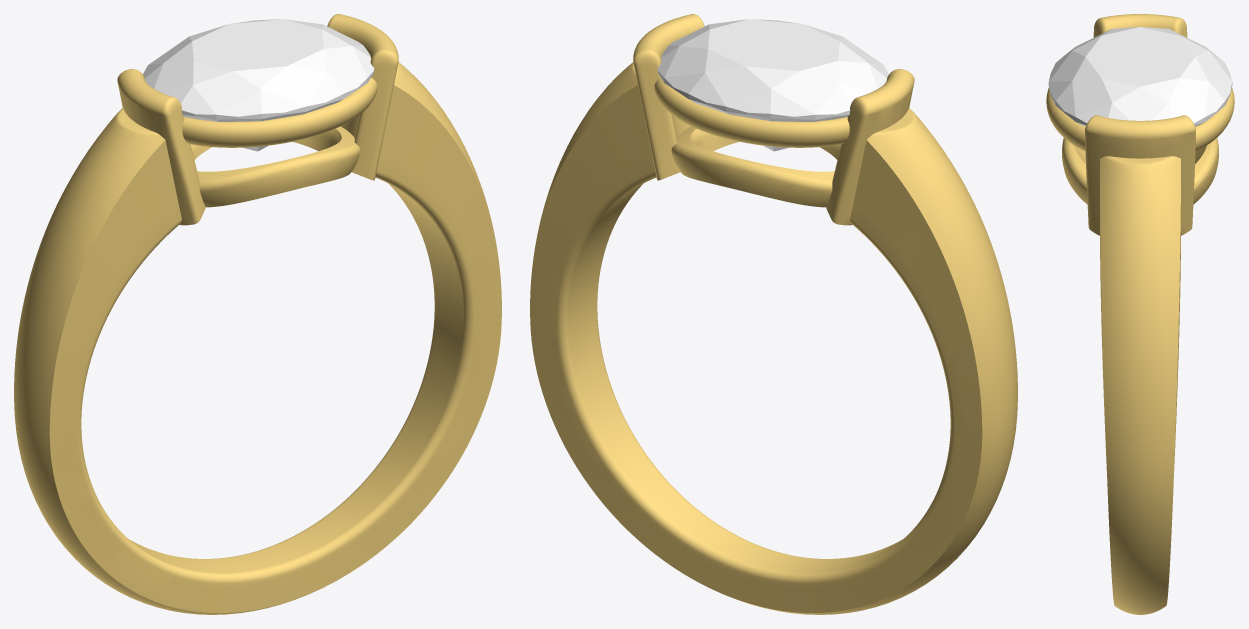
The model's file is Emma&NateYG_webgi.glb.
3 views of the same model, side by side, from view 1: azimuth 30°, elevation 25°; view 2: azimuth 150°, elevation 25°; view 3: azimuth 270°, elevation 25° (orthographic). The views are drawn at different scales.
Visible parts, largest first — view 1: Emma_&_Nate_YG_for_3d_model, Emma_&_Nate_sapphire_'for_3d_model; view 2: Emma_&_Nate_YG_for_3d_model, Emma_&_Nate_sapphire_'for_3d_model; view 3: Emma_&_Nate_YG_for_3d_model, Emma_&_Nate_sapphire_'for_3d_model.
Boxes of the visible parts, <box> form: Emma_&_Nate_YG_for_3d_model: <box>14,14,501,614</box>; Emma_&_Nate_sapphire_'for_3d_model: <box>143,19,374,151</box>; Emma_&_Nate_YG_for_3d_model: <box>530,14,1017,614</box>; Emma_&_Nate_sapphire_'for_3d_model: <box>657,19,888,151</box>; Emma_&_Nate_YG_for_3d_model: <box>1046,14,1234,614</box>; Emma_&_Nate_sapphire_'for_3d_model: <box>1048,27,1232,126</box>.
Bounding box in the file's own units: 2.56 × 2.93 × 0.9353.
